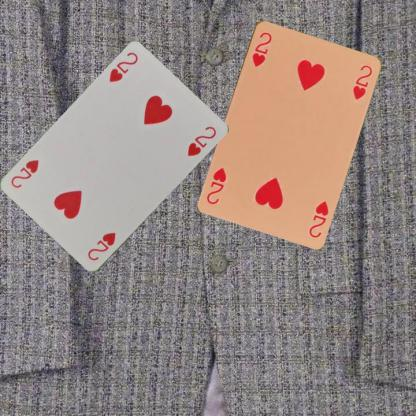2h: (106, 50, 140, 83), (85, 230, 117, 263), (306, 198, 330, 239), (249, 29, 273, 68)
